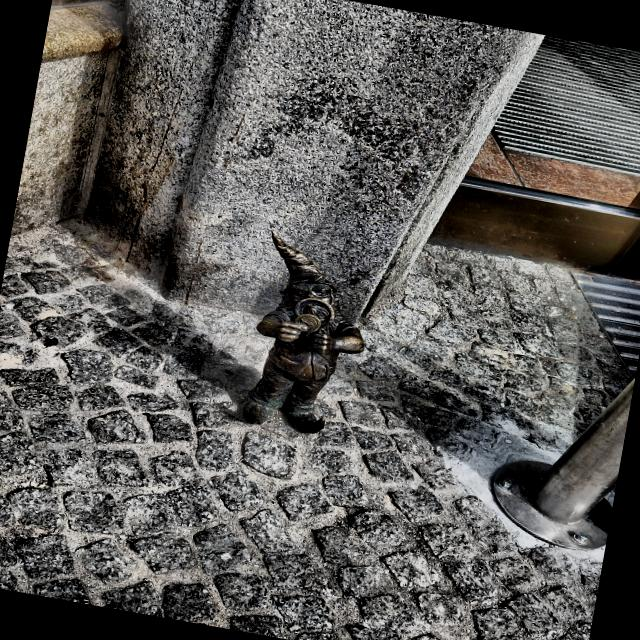Kolekcjoner: (242, 232, 364, 433)
